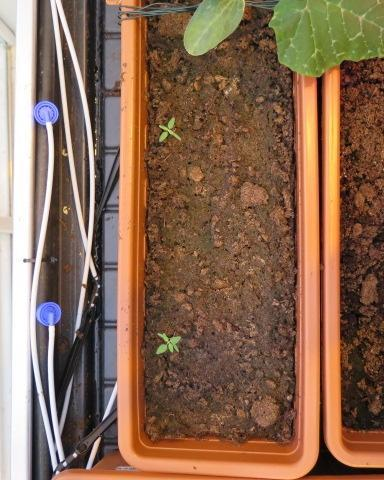weed: (152, 327, 181, 356), (154, 113, 182, 142)
